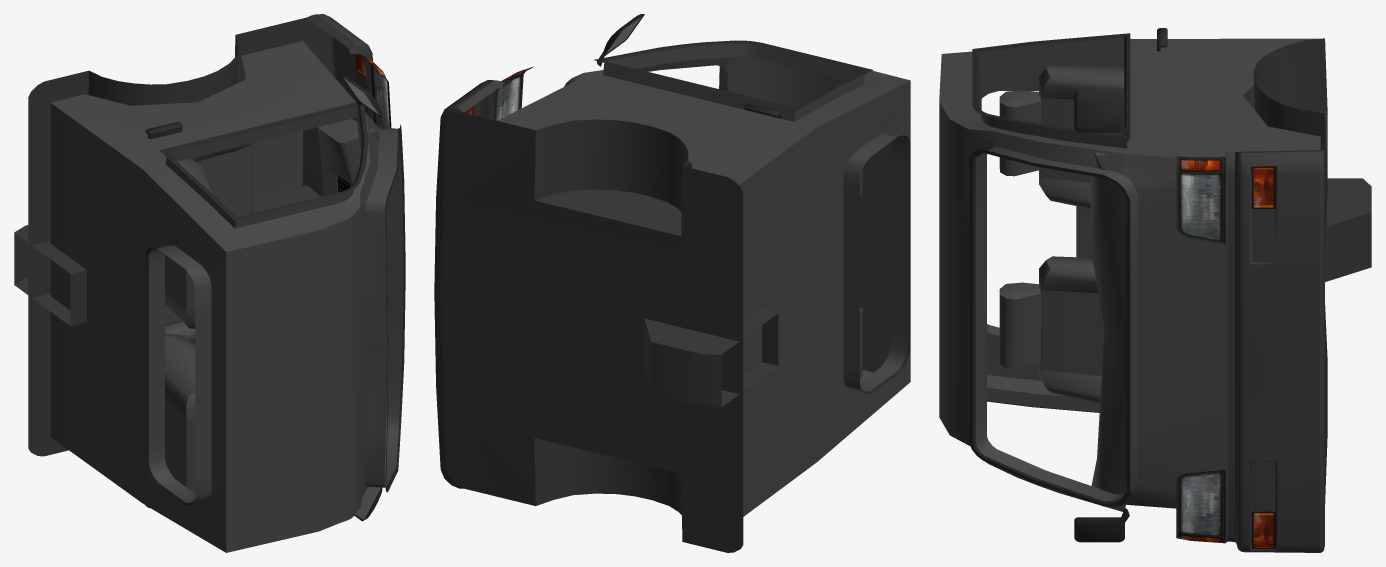
Rendered from cab_details.obj.
3 renders of one model, left to right at view 1: azimuth 30°, elevation 25°; view 2: azimuth 150°, elevation 25°; view 3: azimuth 270°, elevation 25°, orthographic. The views are drawn at different scales.
Visible parts, largest first — view 1: interior, underbody, black_plastic, bumper, baked_flatter, mirror; view 2: underbody, interior, bumper, black_plastic, baked_flatter; view 3: interior, bumper, black_plastic, underbody, baked_flatter.
Part boxes in pixels (left/top/right/bottom): interior: left=50, top=41, right=403, bottom=552; underbody: left=14, top=17, right=325, bottom=456; black_plastic: left=145, top=54, right=405, bottom=521; bumper: left=307, top=14, right=373, bottom=121; baked_flatter: left=355, top=54, right=389, bottom=128; mirror: left=344, top=78, right=380, bottom=519; underbody: left=441, top=113, right=778, bottom=552; interior: left=497, top=44, right=910, bottom=516; bumper: left=434, top=79, right=511, bottom=488; black_plastic: left=494, top=14, right=910, bottom=394; baked_flatter: left=464, top=69, right=528, bottom=120; interior: left=939, top=38, right=1320, bottom=511; bumper: left=1225, top=150, right=1324, bottom=552; black_plastic: left=969, top=28, right=1225, bottom=543; underbody: left=1253, top=38, right=1371, bottom=503; baked_flatter: left=1179, top=158, right=1275, bottom=548.
Size of the model in its own units: 1.29 by 1.7 by 1.48.
8 materials, 2 textured.
